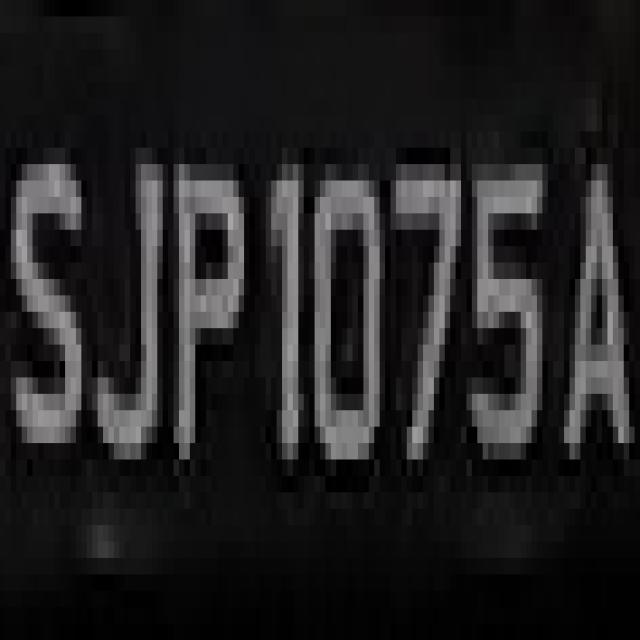0: (304, 115, 396, 509)
1: (250, 98, 309, 509)
5: (466, 82, 548, 525)
7: (358, 115, 472, 541)
A: (553, 115, 635, 558)
J: (76, 66, 168, 508)
P: (168, 82, 250, 509)
S: (0, 66, 87, 508)
